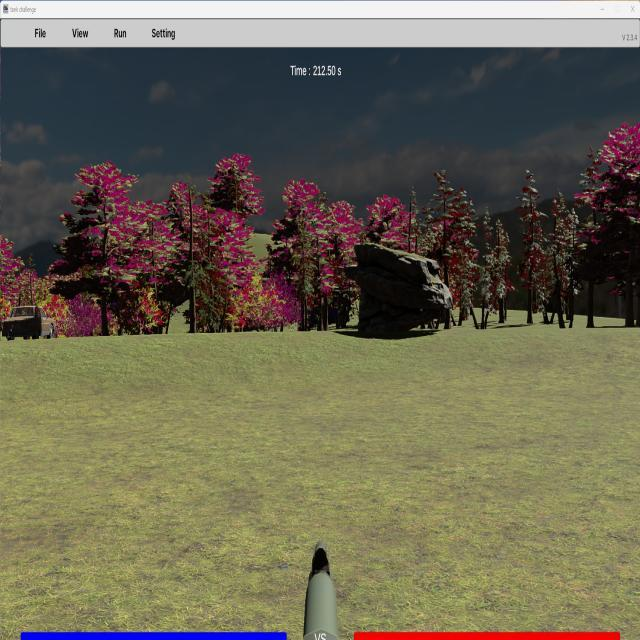car: (1, 305, 55, 341)
